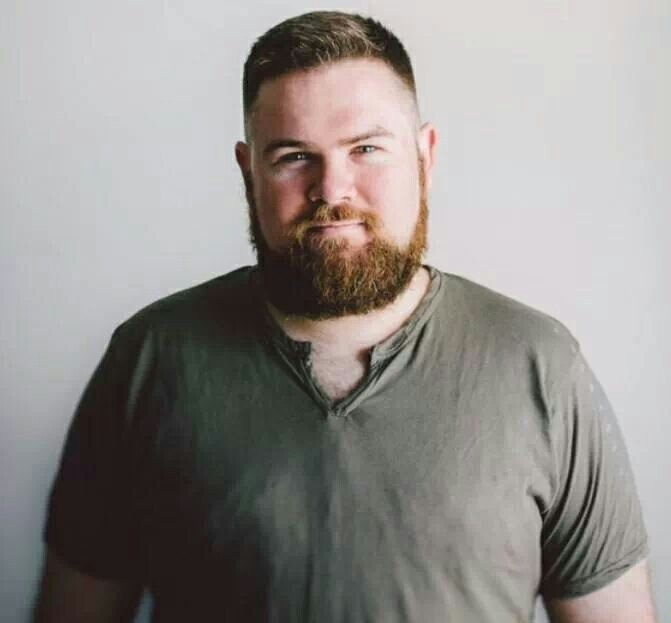face_no_mask: (234, 11, 438, 319)
